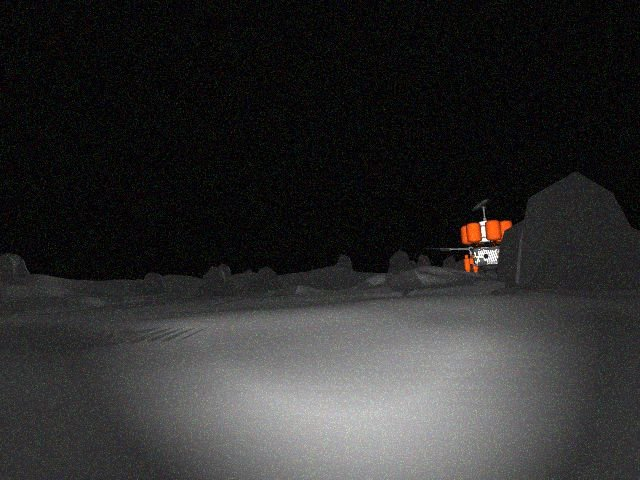homebase: (422, 196, 555, 276)
